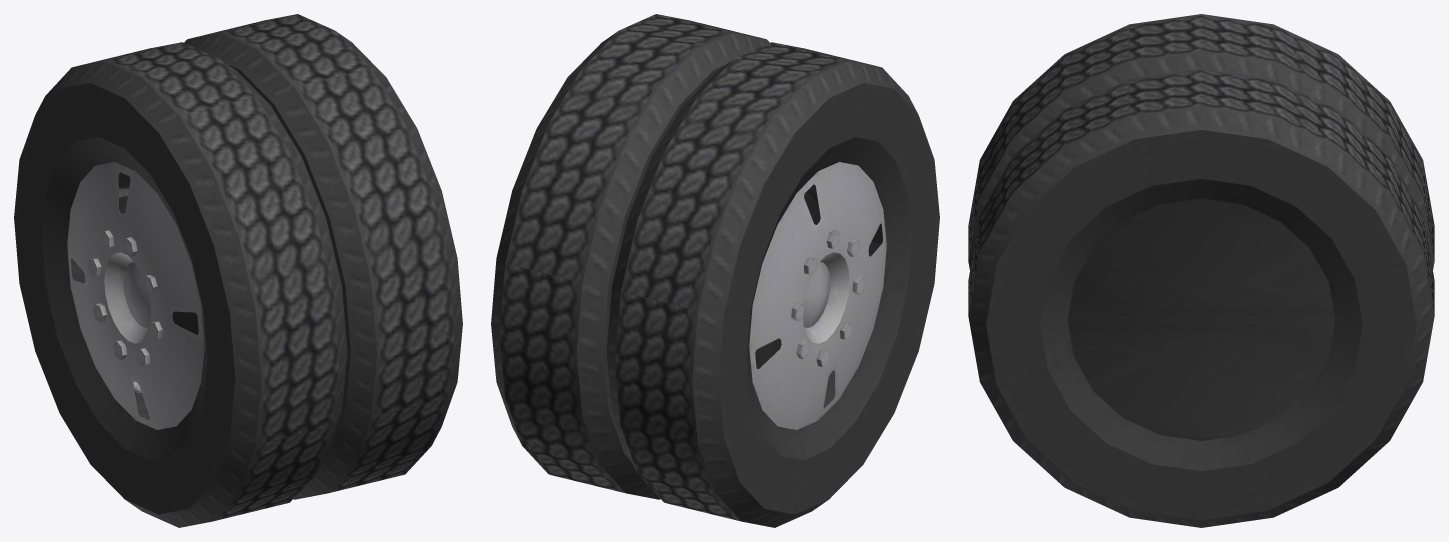
Rendered from Wheel7.fbx.
The picture shows the model from 3 angles, left to right: view 1: azimuth 30°, elevation 25°; view 2: azimuth 150°, elevation 25°; view 3: azimuth 270°, elevation 25°; orthographic projection. The views are drawn at different scales.
Parts seen in each view (by area): view 1: Tire, Metal; view 2: Tire, Metal; view 3: Tire, Metal.
Part boxes in pixels (x1=…): Tire: x1=14, y1=14, x2=462, y2=527; Metal: x1=67, y1=162, x2=204, y2=429; Tire: x1=491, y1=14, x2=939, y2=527; Metal: x1=749, y1=162, x2=886, y2=429; Tire: x1=968, y1=14, x2=1434, y2=527; Metal: x1=1067, y1=198, x2=1335, y2=440.
Bounding box in the file's own units: 59.04 × 107 × 107.
